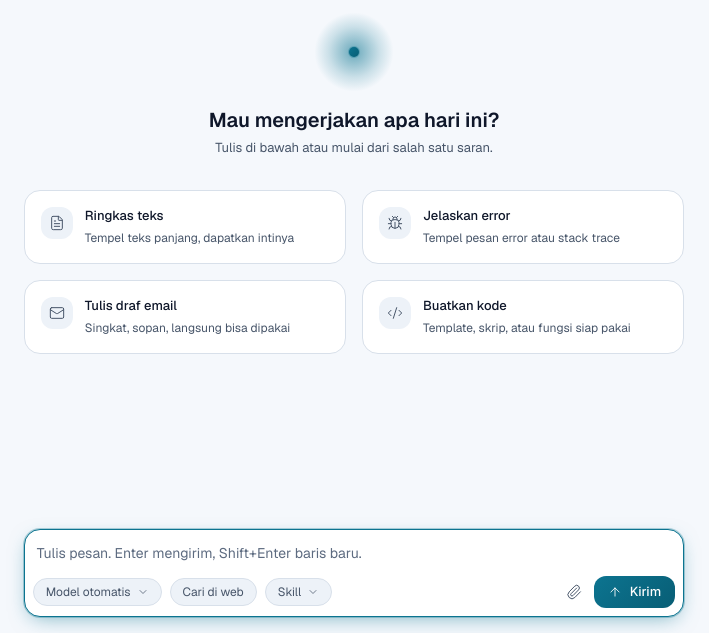
Scenario: ChatScreen: memuat riwayat › percakapan baru: sambutan ringkas dengan kartu saran; composer tetap siap dan fokus
The width and height of the screenshot is (709, 633).
Expected: the heading "Mau mengerjakan apa hari ini?" is shown, [209,108,499,133]
Expected: the button "Kirim" is disabled, [594,576,675,608]
// Kartu hanya mengisi kolom pesan (belum mengirim) lalu memindahkan fokus ke sana.
Click the button "Ringkas teks Tempel teks panjang, dapatkan intinya". click: [57, 223]
box: [24,190,346,264]
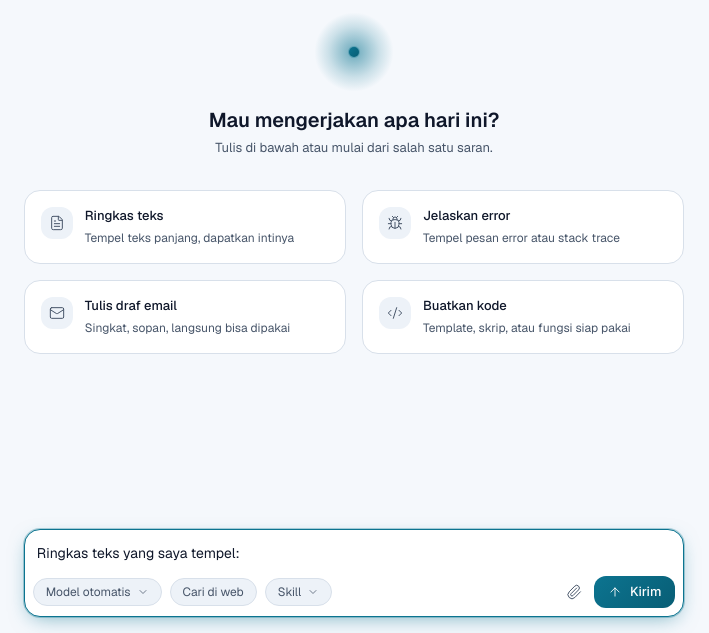
Expected: the text box named "pesan" holds "Ringkas teks yang saya tempel: ", [33,538,675,568]
